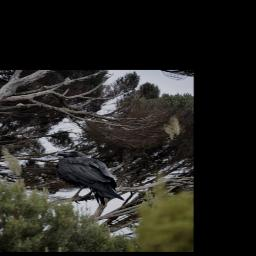Crow: (55, 150, 124, 208)
